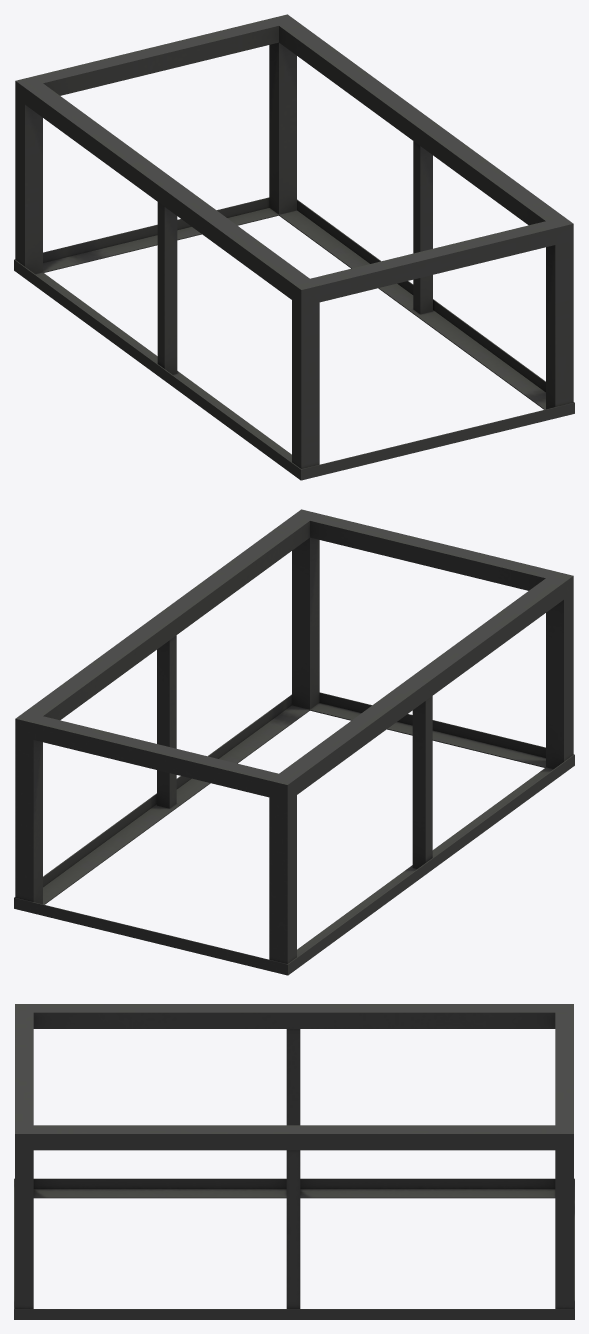
Rendered from jiaodian2.obj.
The picture shows the model from 3 angles, top to bottom: view 1: azimuth 30°, elevation 25°; view 2: azimuth 150°, elevation 25°; view 3: azimuth 270°, elevation 25°; orthographic projection. The views are drawn at different scales.
Parts seen in each view (by area): view 1: Rectangle005; view 2: Rectangle005; view 3: Rectangle005.
Boxes of the visible parts, x1=… form: Rectangle005: x1=14, y1=14, x2=574, y2=480; Rectangle005: x1=14, y1=509, x2=574, y2=975; Rectangle005: x1=14, y1=1004, x2=574, y2=1319.
Size of the model in its own units: 60.4 by 40 by 110.
1 material, 1 textured.
